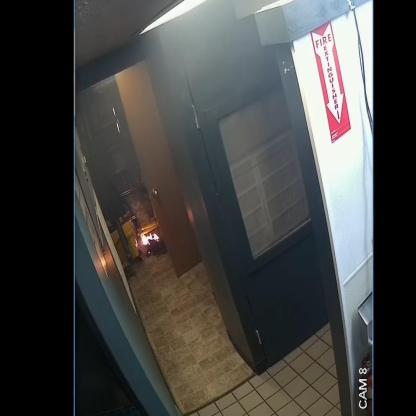fire: (141, 233, 159, 245)
